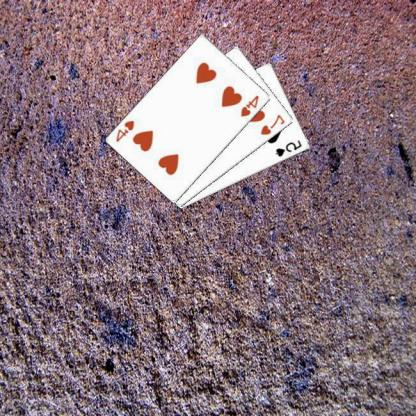4H: (115, 118, 138, 143), (240, 92, 262, 118)
5S: (275, 138, 305, 158)
7H: (260, 112, 288, 136)
